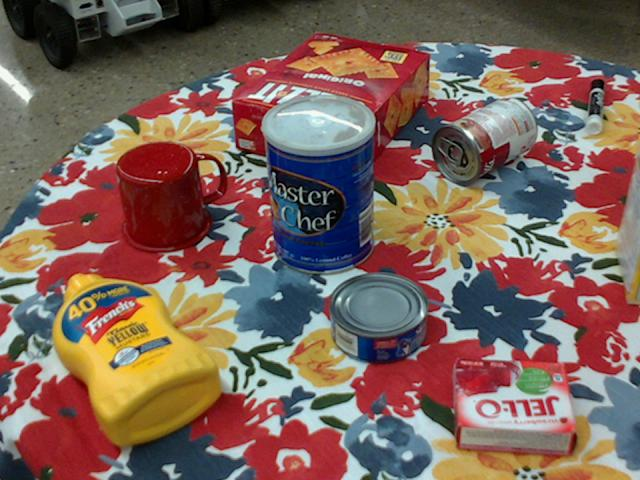cracker_box: (233, 33, 431, 177)
gelatin_box: (456, 359, 579, 456)
large_marker: (585, 79, 606, 132)
master_chef_can: (261, 93, 374, 274)
mug: (115, 140, 224, 253)
mustard_bottle: (52, 274, 222, 445)
sugar_box: (615, 143, 639, 304)
tomato_soup_can: (432, 95, 537, 184)
tuna_fish_can: (329, 273, 429, 364)
